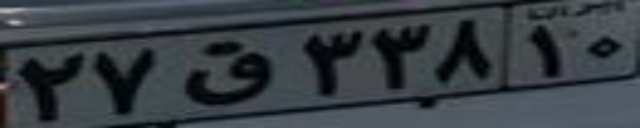0: (582, 36, 628, 59)
1: (529, 22, 565, 79)
2: (16, 51, 81, 123)
3: (302, 27, 363, 98), (375, 23, 430, 91)
7: (91, 47, 166, 114)
8: (439, 19, 493, 83)
ghaf: (183, 38, 279, 106)
